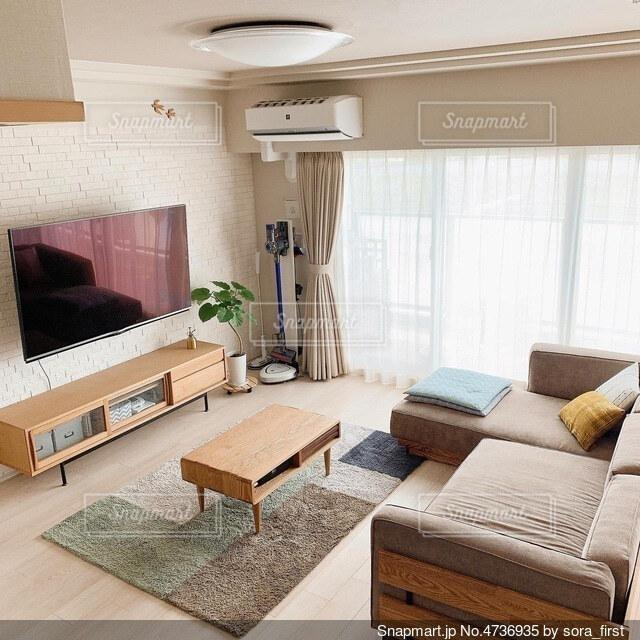natural desk: (173, 397, 346, 533)
natural sofa: (377, 335, 640, 630)
